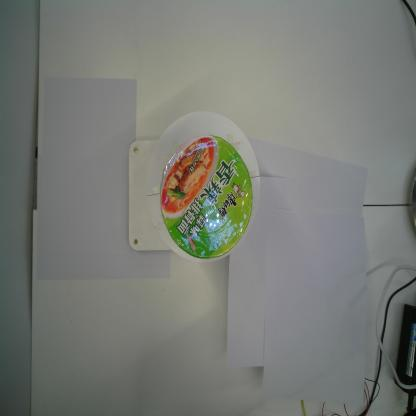Instant Noodles: (158, 132, 254, 259)
